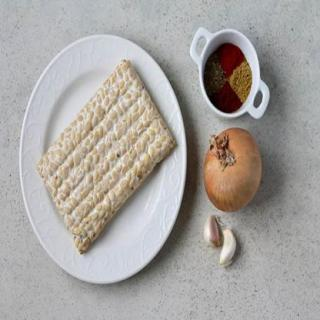Tempe: (36, 58, 179, 257)
